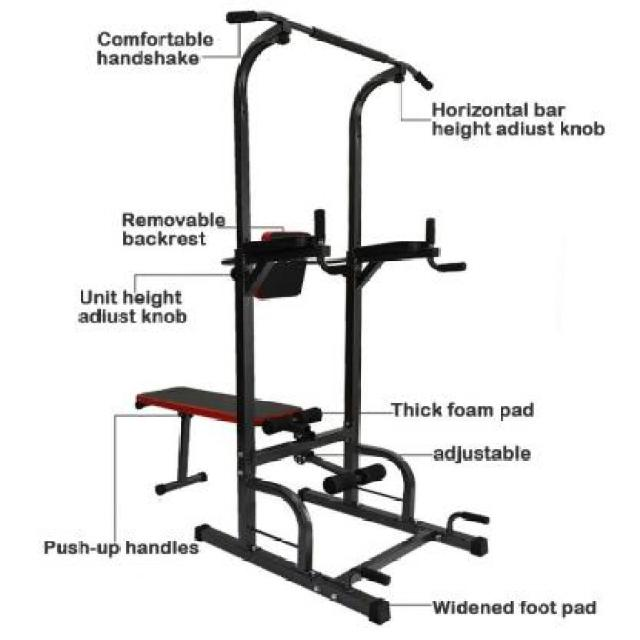chinning dipping: (228, 5, 488, 617)
